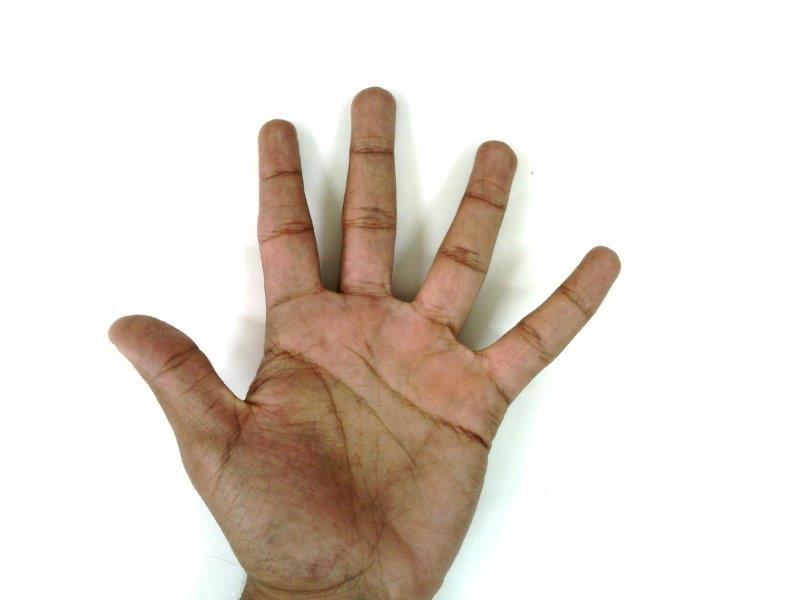hand: (109, 81, 620, 578)
